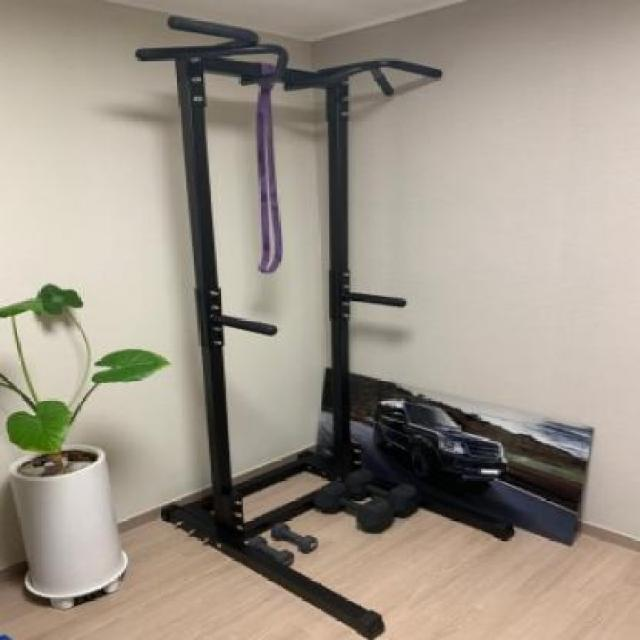chinning dipping: (138, 15, 514, 637)
